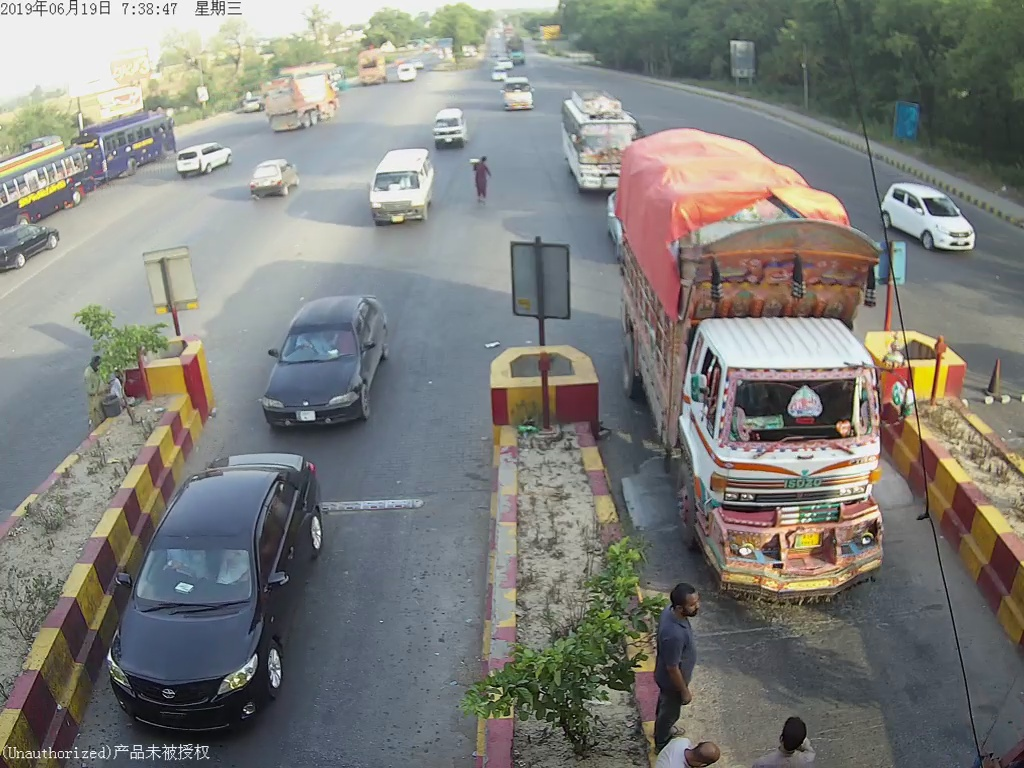Cat-1: (108, 444, 322, 738), (257, 294, 394, 433), (881, 176, 980, 255), (428, 106, 473, 153)
Cat-2: (371, 146, 437, 226)
Cat-3: (555, 88, 639, 191)
Cat-4: (630, 132, 895, 599)
